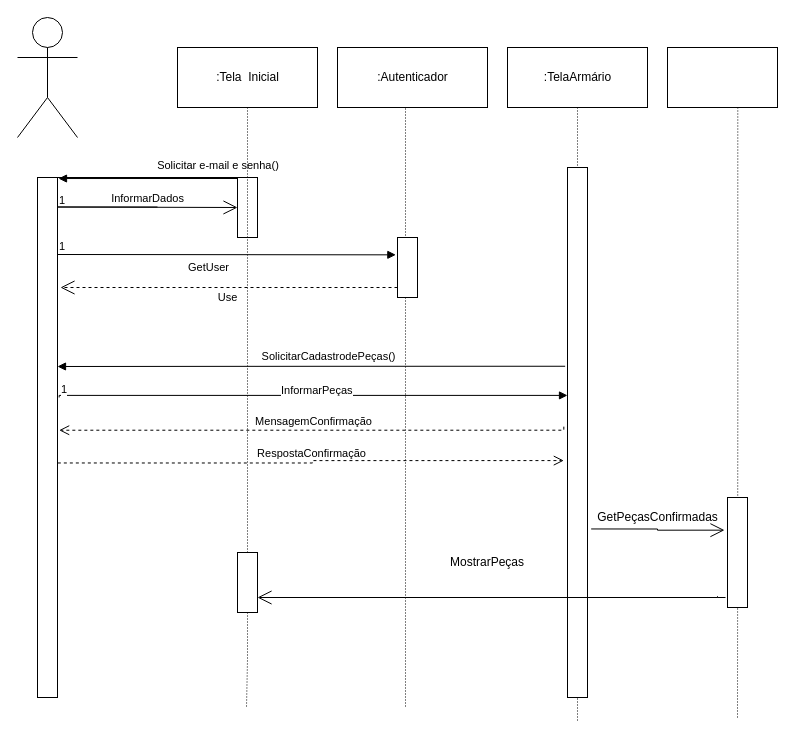
Some shapes in this 795 by 740 pixel diagram are drawn without their labels. Here are the shapes that lost their labels. From the top down, the centre of each, then its label:
the point at 47,77: Usuário
the point at 722,77: :ArmarioController
